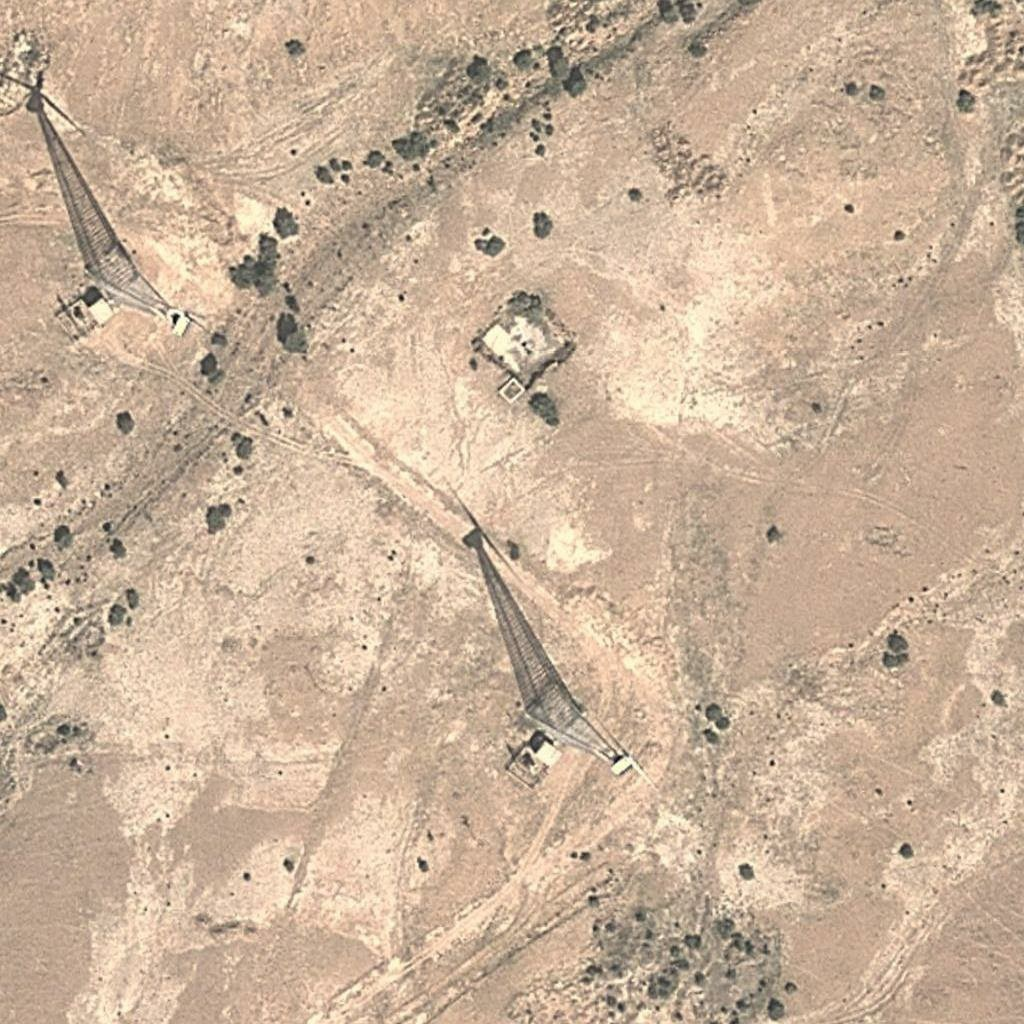Windmill: (434, 484, 574, 683)
